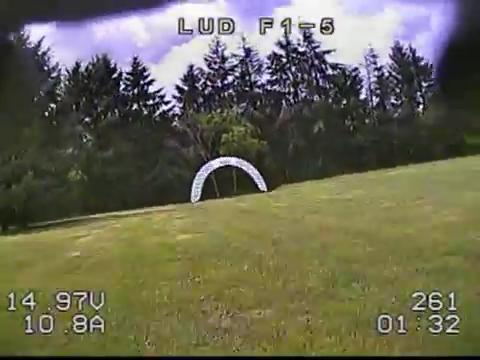gate: (190, 157, 266, 202)
